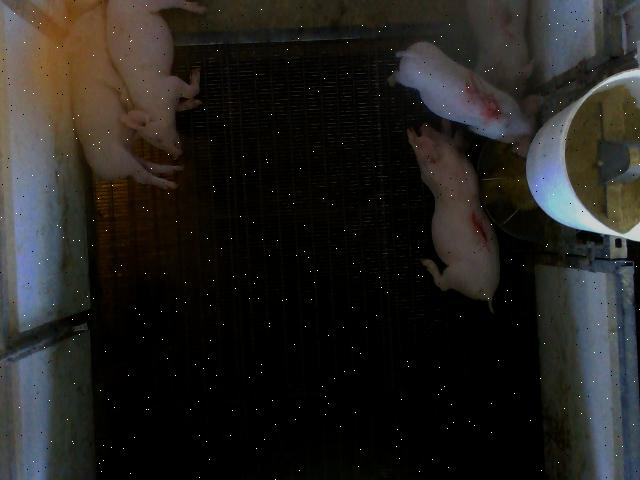pig-1: (408, 121, 500, 312)
pig-3: (466, 2, 532, 100)
pig-5: (390, 42, 542, 158)
